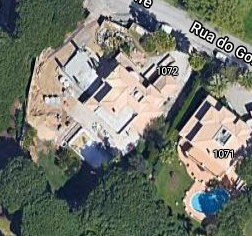pool: (191, 194, 228, 213)
